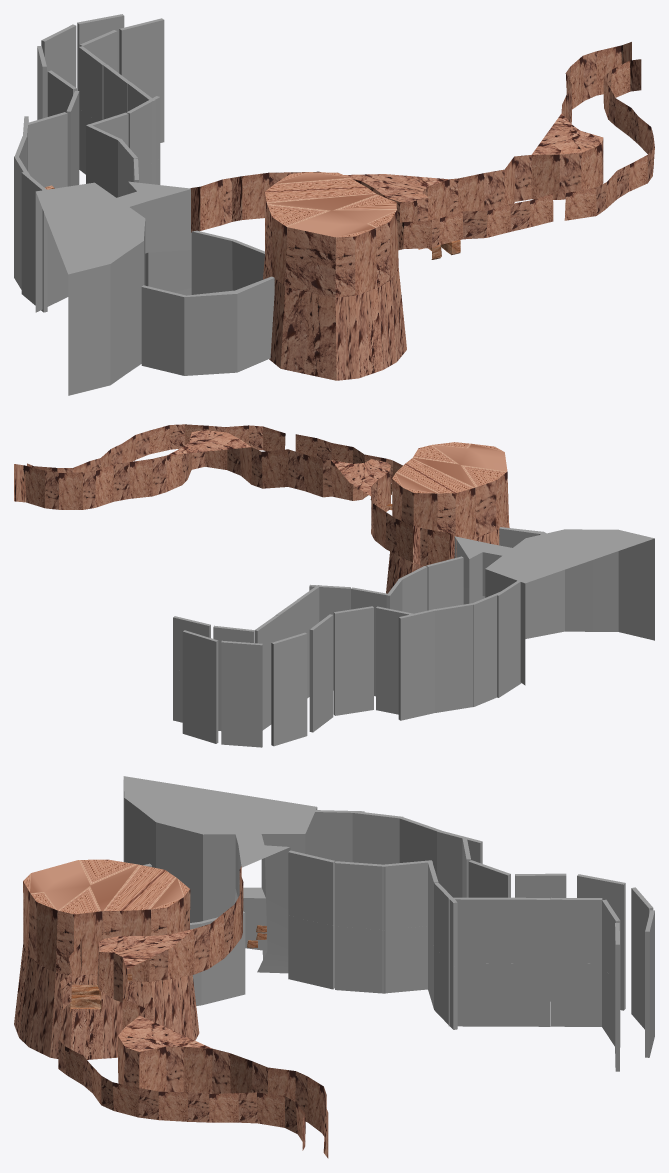
Rendered from env_model_level0_tutorial_01.fbx.
3 views of the same model, one above another, from view 1: azimuth 30°, elevation 25°; view 2: azimuth 150°, elevation 25°; view 3: azimuth 270°, elevation 25° (orthographic). The views are drawn at different scales.
Parts seen in each view (by area): view 1: pCube54, pCube143, pCube130, pCube144, pCube24, pCube53, pCube145, pCube114, pCube100, pCube84, pCube90, pCube96 (+13 smaller); view 2: pCube130, pCube143, pCube54, pCube24, pCube108, pCube102, pCube109, pCube103, pCube86, pCube87, pCube98, pCube112 (+25 smaller); view 3: pCube54, pCube143, pCube130, pCube24, pCube94, pCube82, pCube96, pCube83, pCube95, pCube97, pCube80, pCube81 (+21 smaller).
Boxes of the visible parts, x1,y1,x2,y2 form: pCube54: [263, 172, 406, 380]; pCube143: [35, 181, 191, 395]; pCube130: [190, 42, 631, 232]; pCube144: [141, 276, 274, 375]; pCube24: [564, 59, 654, 220]; pCube53: [397, 193, 553, 250]; pCube145: [191, 230, 264, 294]; pCube114: [119, 18, 164, 87]; pCube100: [28, 112, 67, 182]; pCube84: [86, 124, 119, 197]; pCube90: [126, 96, 160, 169]; pCube96: [78, 46, 106, 121]; pCube130: [14, 430, 456, 565]; pCube143: [454, 529, 654, 685]; pCube54: [386, 442, 509, 593]; pCube24: [27, 424, 285, 472]; pCube108: [221, 640, 262, 696]; pCube102: [333, 606, 373, 664]; pCube109: [221, 693, 262, 747]; pCube103: [333, 658, 373, 715]; pCube86: [434, 603, 473, 662]; pCube87: [435, 656, 473, 712]; pCube98: [398, 609, 435, 669]; pCube112: [182, 630, 218, 692]; pCube54: [14, 859, 199, 1059]; pCube143: [123, 776, 317, 973]; pCube130: [97, 866, 328, 1158]; pCube24: [58, 1026, 305, 1150]; pCube94: [499, 897, 550, 963]; pCube82: [335, 861, 385, 929]; pCube96: [551, 897, 602, 963]; pCube83: [335, 926, 385, 993]; pCube95: [500, 963, 550, 1026]; pCube97: [551, 963, 601, 1026]; pCube80: [288, 850, 335, 925]; pCube81: [288, 915, 334, 989].
Bounding box in the file's own units: 22209 × 4440 × 17932.
